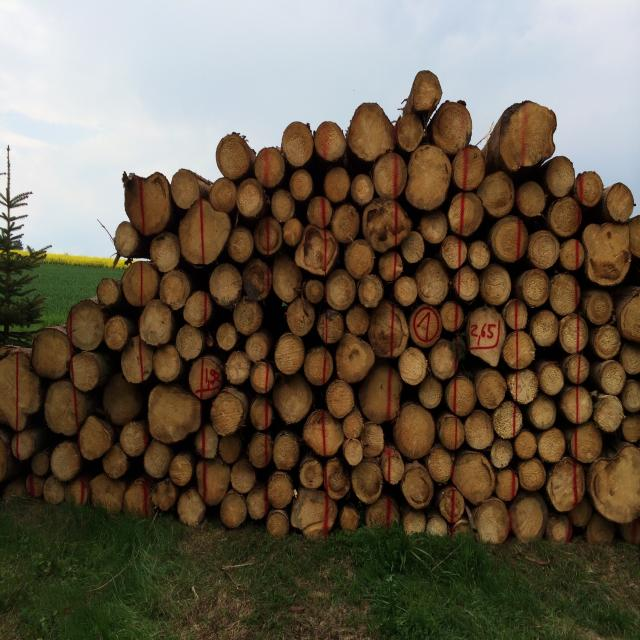wood-log: (502, 102, 559, 172), (596, 443, 640, 523), (180, 199, 233, 265), (0, 348, 42, 429), (151, 384, 204, 444), (585, 220, 633, 286), (406, 145, 450, 213), (346, 102, 395, 162), (125, 174, 172, 235), (44, 380, 94, 437), (357, 363, 402, 425), (394, 402, 436, 460), (366, 303, 408, 360), (363, 198, 409, 249), (102, 371, 144, 425), (30, 328, 73, 380), (453, 452, 494, 505), (432, 102, 472, 155), (291, 489, 338, 534), (294, 226, 338, 274), (335, 333, 376, 384), (272, 374, 314, 423), (547, 458, 584, 513), (302, 408, 343, 456), (489, 216, 530, 264), (67, 300, 106, 350), (510, 494, 548, 542), (374, 151, 411, 200), (124, 260, 162, 307), (478, 171, 516, 217), (469, 309, 504, 358), (450, 193, 488, 238), (210, 389, 246, 436), (188, 355, 224, 402), (78, 416, 114, 462), (215, 134, 251, 180), (414, 258, 450, 304), (476, 497, 511, 544), (280, 121, 315, 168), (122, 336, 156, 384), (139, 300, 174, 346), (453, 146, 488, 192), (271, 254, 303, 304), (208, 262, 243, 307), (402, 462, 435, 509), (312, 120, 348, 162), (559, 308, 591, 354), (549, 195, 584, 237), (480, 262, 513, 306), (92, 472, 125, 516), (544, 156, 578, 198), (351, 459, 382, 505), (559, 385, 595, 424), (274, 333, 307, 375), (408, 71, 441, 113), (550, 272, 582, 315), (503, 331, 538, 370), (570, 424, 604, 464), (169, 168, 203, 208), (50, 441, 83, 482), (160, 268, 192, 310), (396, 109, 426, 153), (242, 258, 272, 302), (202, 459, 230, 506), (256, 148, 287, 190), (327, 268, 358, 310), (445, 374, 476, 416), (332, 202, 362, 244), (492, 400, 523, 440), (528, 230, 559, 270), (519, 268, 550, 308), (72, 352, 103, 392), (476, 368, 507, 408), (304, 345, 335, 385), (412, 303, 440, 347), (465, 408, 495, 449), (285, 296, 314, 338), (177, 488, 208, 527), (151, 232, 181, 272), (431, 338, 460, 379), (345, 241, 376, 279), (121, 420, 152, 458), (593, 395, 624, 433), (155, 342, 185, 381), (325, 379, 354, 419), (234, 298, 265, 335), (364, 494, 395, 531), (607, 182, 635, 222), (530, 308, 558, 348), (182, 291, 213, 327), (576, 170, 605, 208), (399, 347, 428, 385), (272, 433, 300, 472), (619, 290, 640, 342), (238, 177, 265, 217), (591, 326, 621, 362), (256, 216, 283, 256), (125, 477, 152, 517), (511, 368, 541, 404), (268, 472, 297, 509), (427, 446, 455, 484), (516, 181, 546, 216), (318, 309, 348, 344), (145, 442, 174, 478), (537, 428, 566, 464), (584, 290, 613, 326), (115, 221, 142, 259), (441, 484, 468, 522), (518, 456, 547, 491), (528, 394, 556, 430), (600, 360, 628, 396), (380, 446, 405, 486), (471, 334, 501, 367), (221, 492, 248, 528), (325, 166, 352, 202), (225, 349, 252, 385), (327, 459, 350, 501), (232, 457, 258, 494), (230, 227, 256, 264), (562, 353, 592, 385), (176, 324, 203, 359), (209, 177, 236, 212), (455, 266, 480, 303), (537, 362, 564, 396), (417, 374, 444, 408), (440, 415, 464, 453), (104, 314, 130, 349), (441, 235, 468, 268), (420, 212, 447, 245), (153, 479, 179, 513), (308, 195, 334, 229), (560, 237, 585, 272), (440, 300, 465, 334), (103, 444, 127, 479), (505, 297, 529, 332), (244, 330, 270, 362), (290, 168, 316, 200), (344, 304, 370, 336), (250, 362, 276, 394), (196, 424, 219, 460), (170, 452, 195, 485), (13, 429, 38, 462), (358, 272, 382, 306), (247, 434, 271, 468), (588, 517, 616, 546), (401, 232, 426, 264), (379, 252, 404, 284), (496, 466, 518, 502), (351, 172, 375, 205), (250, 396, 272, 432), (362, 425, 385, 459), (548, 514, 573, 545), (268, 511, 292, 542), (220, 435, 244, 466), (300, 460, 324, 491), (272, 189, 295, 221), (618, 343, 640, 376), (489, 439, 514, 468), (514, 430, 538, 460), (393, 275, 416, 306), (345, 409, 367, 441), (246, 488, 268, 520), (620, 378, 640, 413), (572, 501, 596, 529), (97, 277, 120, 306), (468, 239, 490, 269), (43, 476, 65, 506), (68, 476, 88, 509), (282, 216, 302, 248), (402, 510, 427, 535), (216, 324, 238, 352), (621, 516, 640, 548), (30, 447, 50, 477), (341, 503, 361, 532), (622, 414, 640, 444), (0, 430, 10, 484), (305, 278, 325, 304), (426, 513, 448, 536), (628, 214, 640, 256), (344, 440, 363, 466)
